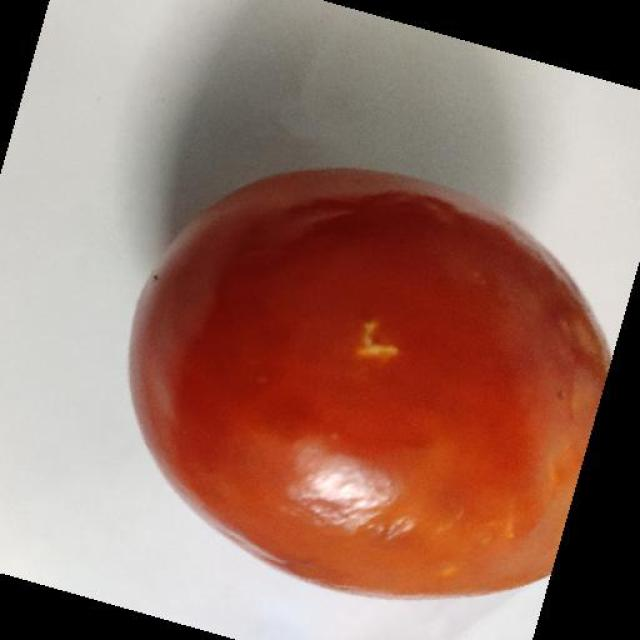Stale_tomato: (130, 186, 632, 578)
